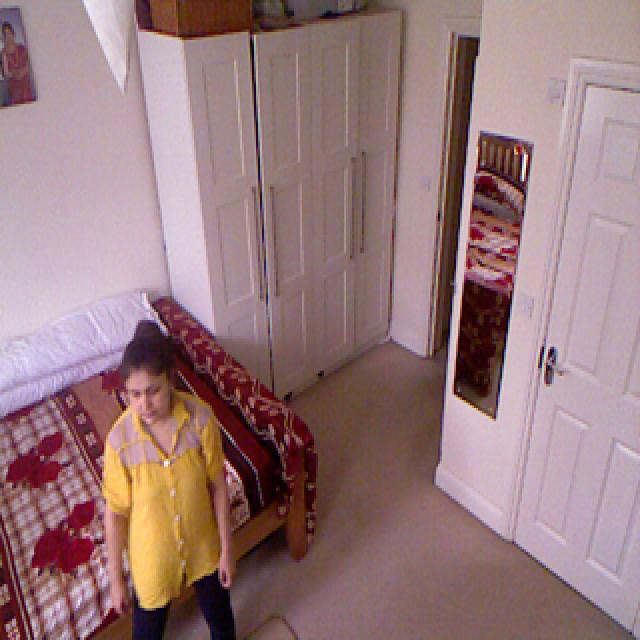standing: (98, 325, 238, 640)
